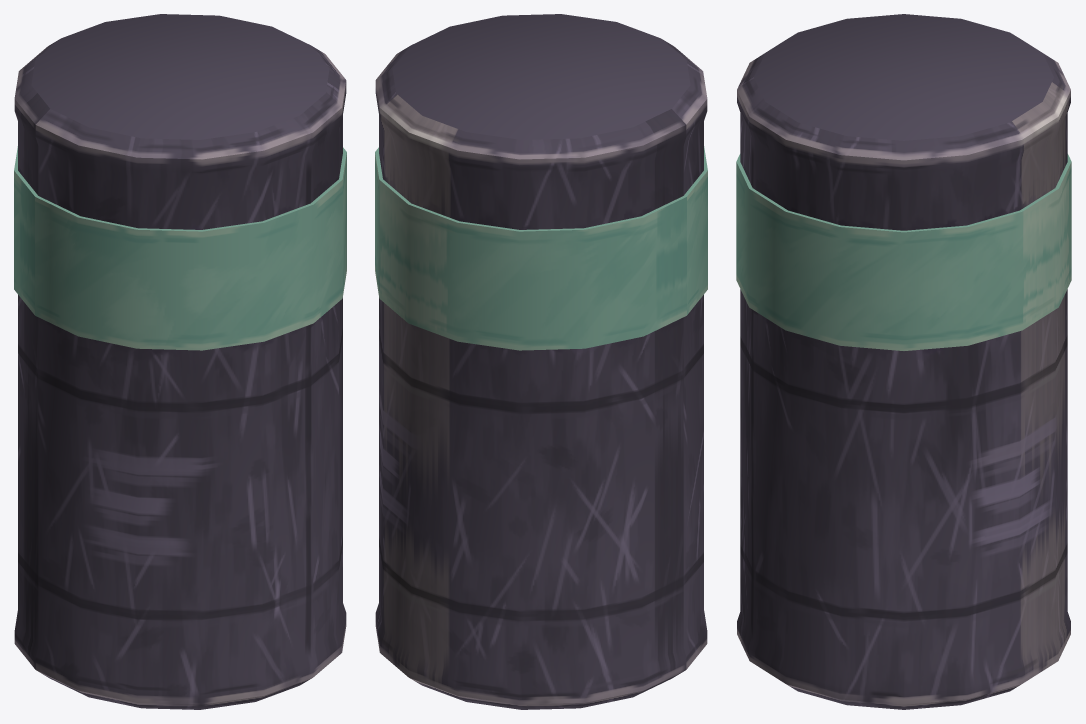
The model's file is smoke_body.fbx.
The picture shows the model from 3 angles, left to right: view 1: azimuth 30°, elevation 25°; view 2: azimuth 150°, elevation 25°; view 3: azimuth 270°, elevation 25°; orthographic projection.
Visible parts, largest first — view 1: smoke_body; view 2: smoke_body; view 3: smoke_body.
Part boxes in pixels (x1=…): smoke_body: x1=14, y1=14, x2=346, y2=709; smoke_body: x1=375, y1=14, x2=707, y2=709; smoke_body: x1=736, y1=14, x2=1071, y2=709.
Size of the model in its own units: 0.2303 by 0.4313 by 0.2303.
